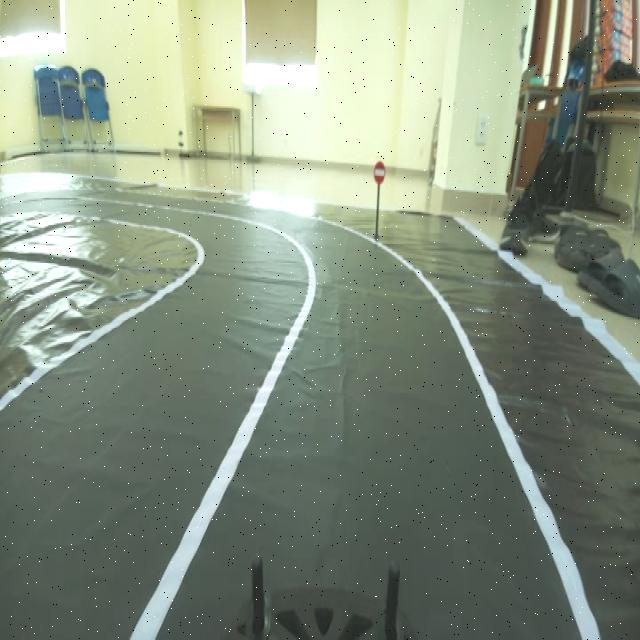no_entry: (369, 155, 391, 189)
